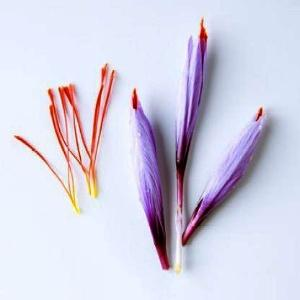Saffron: (183, 112, 265, 245), (130, 90, 168, 270), (172, 20, 210, 190)
